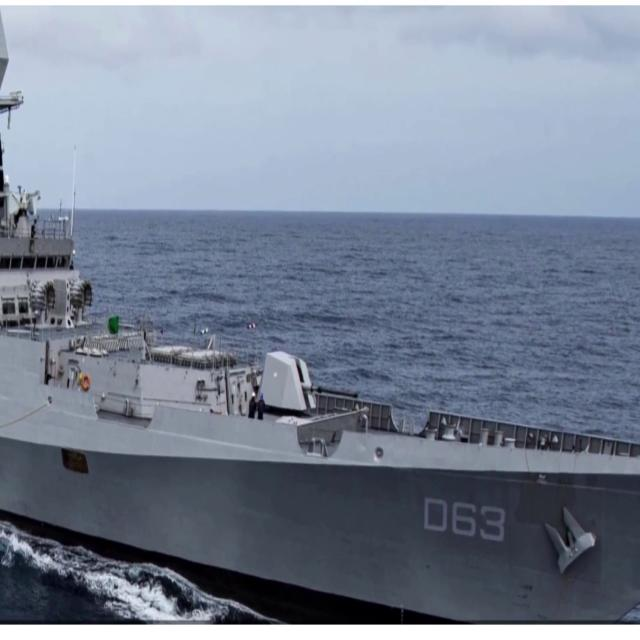OCR: (420, 493, 508, 550)
